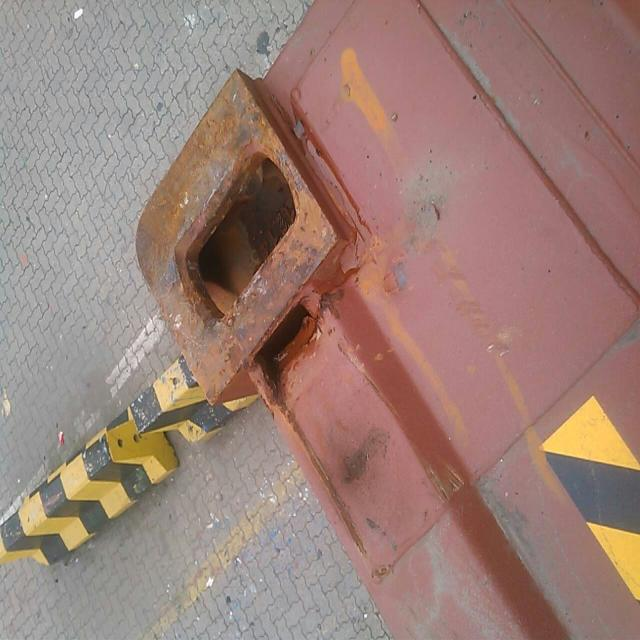hole: (255, 296, 328, 403)
